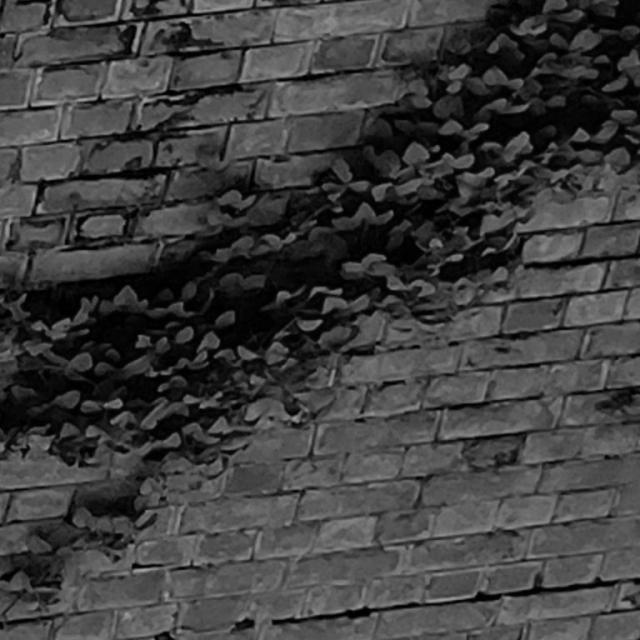crack: (231, 574, 637, 632)
